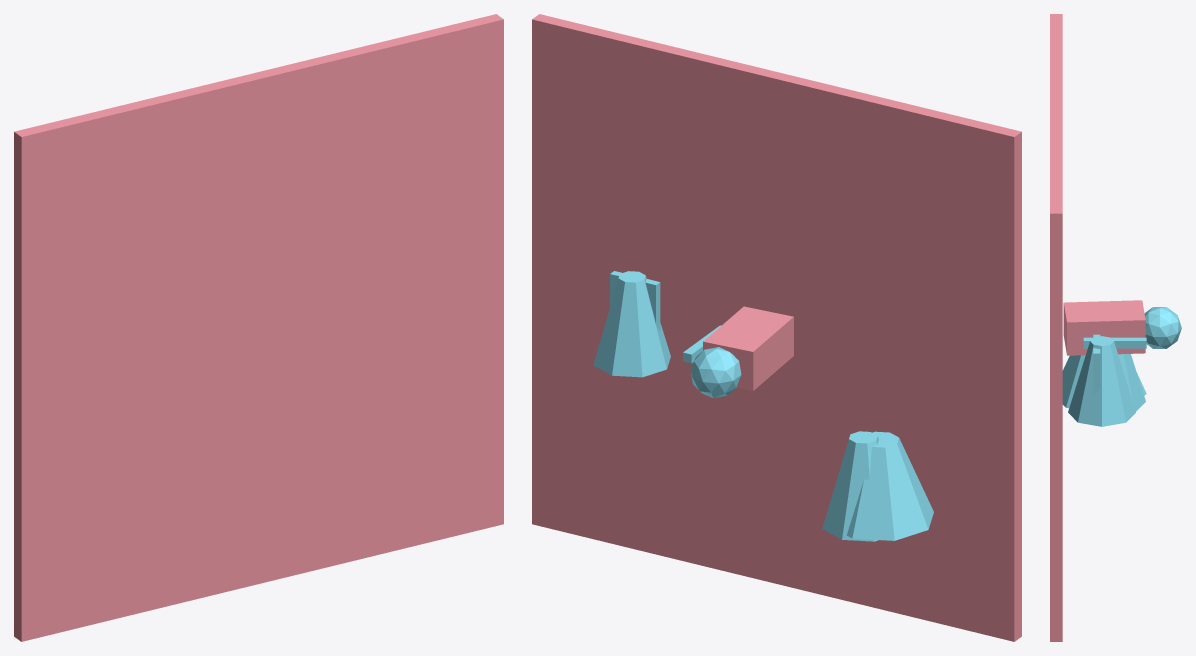
The model's file is breachpoint-ops-kit.glb.
3 renders of one model, left to right at view 1: azimuth 30°, elevation 25°; view 2: azimuth 150°, elevation 25°; view 3: azimuth 270°, elevation 25°, orthographic. The views are drawn at different scales.
Parts seen in each view (by area): view 1: ENVIRONMENT_GROUND; view 2: ENVIRONMENT_GROUND, ENVIRONMENT_LANDMARK, OBSTACLE, PLAYER_BODY, PROFILE_ENVIRONMENT_DETAIL, PLAYER_HEAD, PROFILE_OBSTACLE_DETAIL; view 3: ENVIRONMENT_GROUND, OBSTACLE, PLAYER_BODY, PLAYER_HEAD, ENVIRONMENT_LANDMARK, PROFILE_ENVIRONMENT_DETAIL, PLAYER_TOOL, PROFILE_OBSTACLE_DETAIL.
Boxes of the visible parts, <box> form: ENVIRONMENT_GROUND: <box>14,14,503,641</box>; ENVIRONMENT_GROUND: <box>532,14,1021,641</box>; ENVIRONMENT_LANDMARK: <box>846,431,933,540</box>; OBSTACLE: <box>593,271,670,377</box>; PLAYER_BODY: <box>703,306,793,390</box>; PROFILE_ENVIRONMENT_DETAIL: <box>822,431,878,541</box>; PLAYER_HEAD: <box>690,347,741,398</box>; PROFILE_OBSTACLE_DETAIL: <box>610,271,660,331</box>; ENVIRONMENT_GROUND: <box>1050,14,1062,641</box>; OBSTACLE: <box>1068,336,1135,426</box>; PLAYER_BODY: <box>1063,300,1145,355</box>; PLAYER_HEAD: <box>1144,307,1181,348</box>; ENVIRONMENT_LANDMARK: <box>1062,355,1146,408</box>; PROFILE_ENVIRONMENT_DETAIL: <box>1118,354,1145,411</box>; PLAYER_TOOL: <box>1083,337,1146,348</box>; PROFILE_OBSTACLE_DETAIL: <box>1093,334,1100,395</box>.
Size of what is drawn, in the model's own units: 9 by 9 by 2.51.
